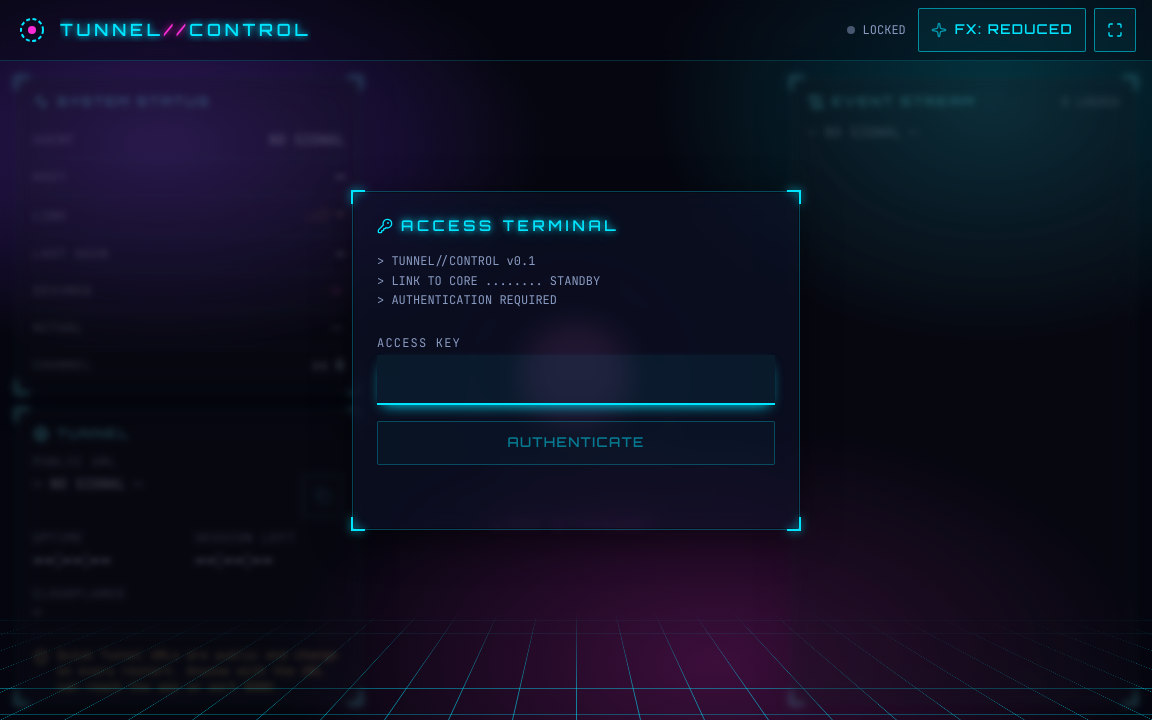
it: single page: lock, unlock, control › Escape and Cancel close the dialog without starting anything
The image size is (1152, 720).
Type "correct-horse" into the password field labelled "Access key" at x=576, y=379, box [377,354,775,404]
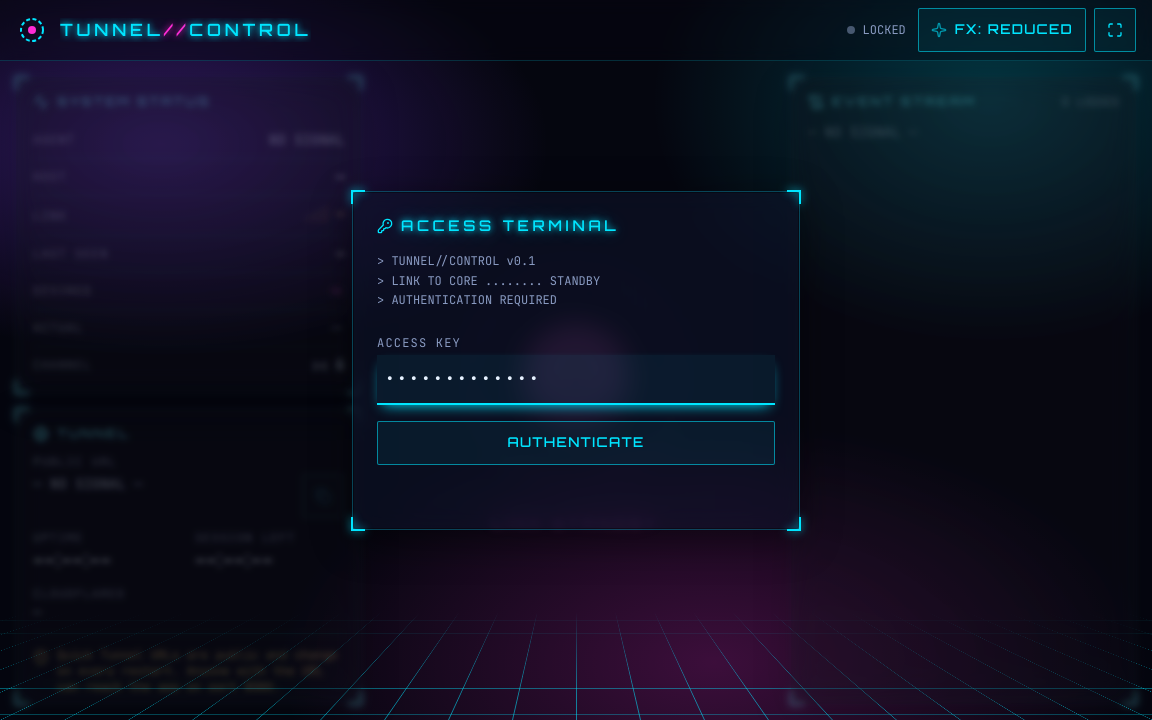
Click the button "Authenticate" at x=576, y=442, box [377,420,775,464]
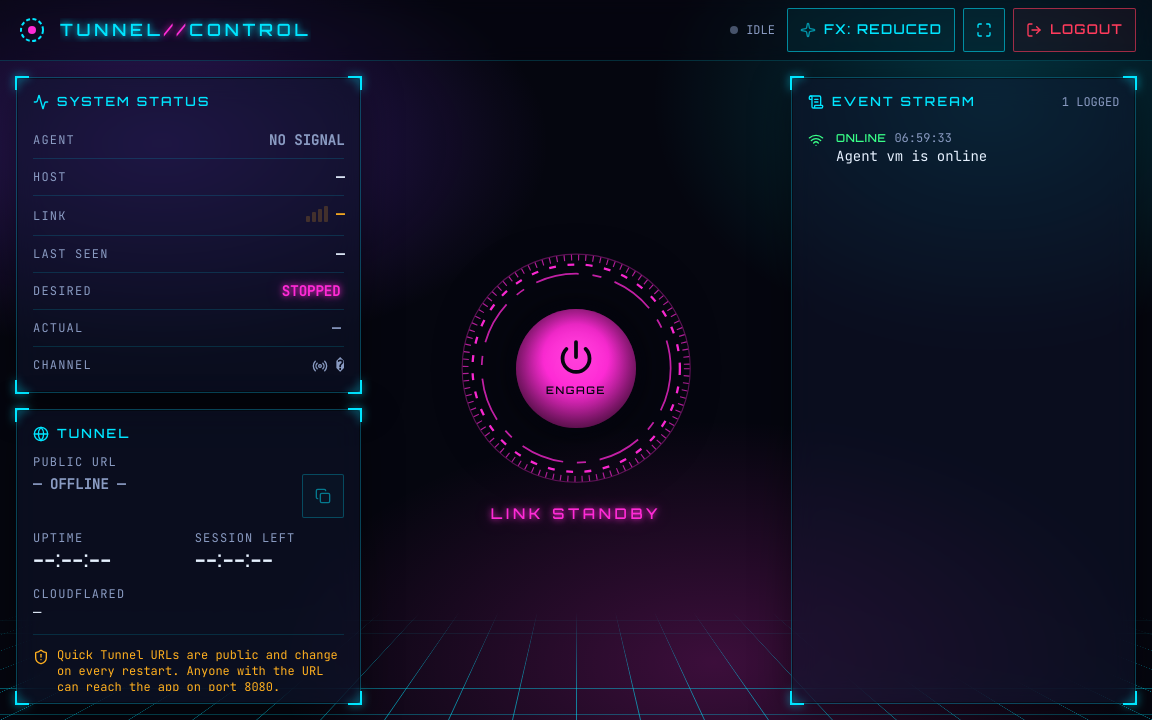
Click the button with aria-label "engage tunnel" at x=576, y=368, box [461,253,691,484]
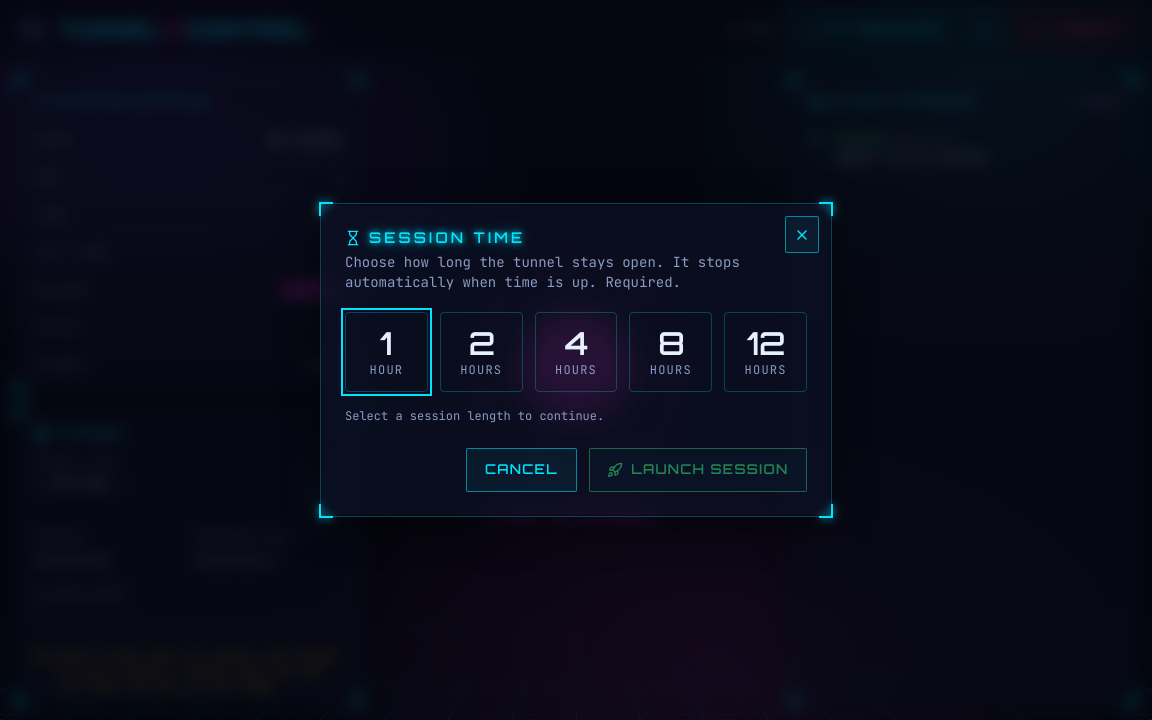
Result: the dialog "SESSION TIME" is shown at [320,203,832,517]
Press Escape
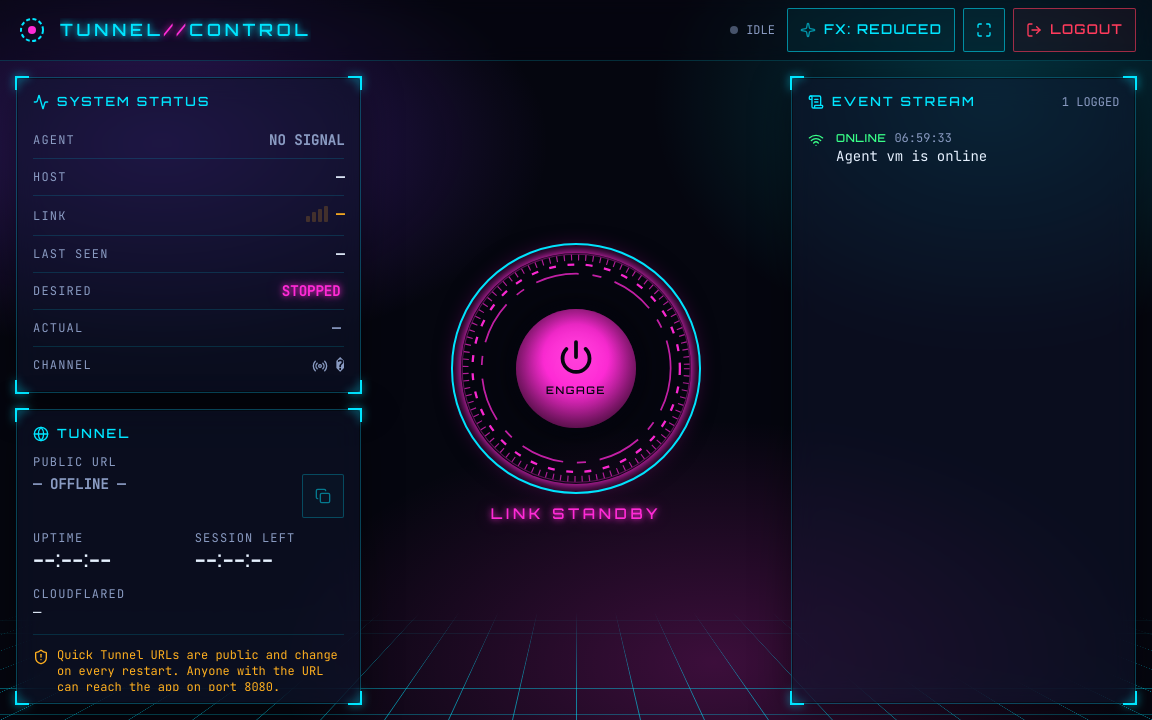
Result: the dialog is gone
Click the button with aria-label "engage tunnel" at x=576, y=368, box [461,253,691,484]
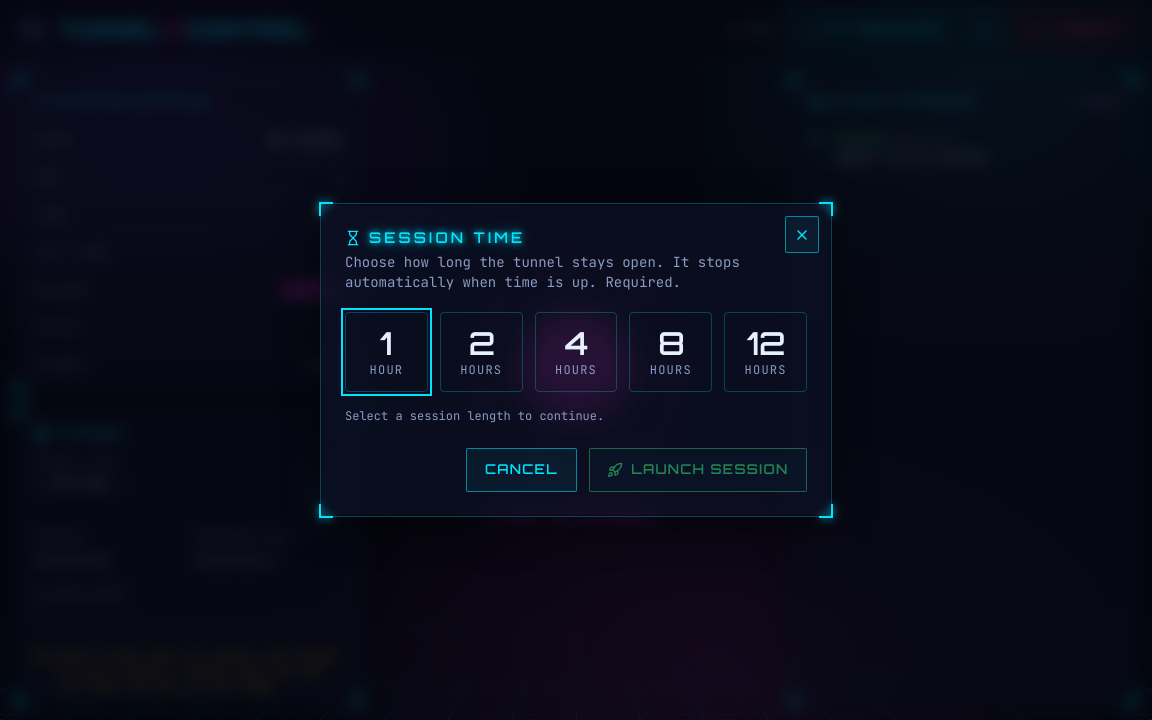
Click the button "Cancel" at x=522, y=470, box [466,448,577,492]
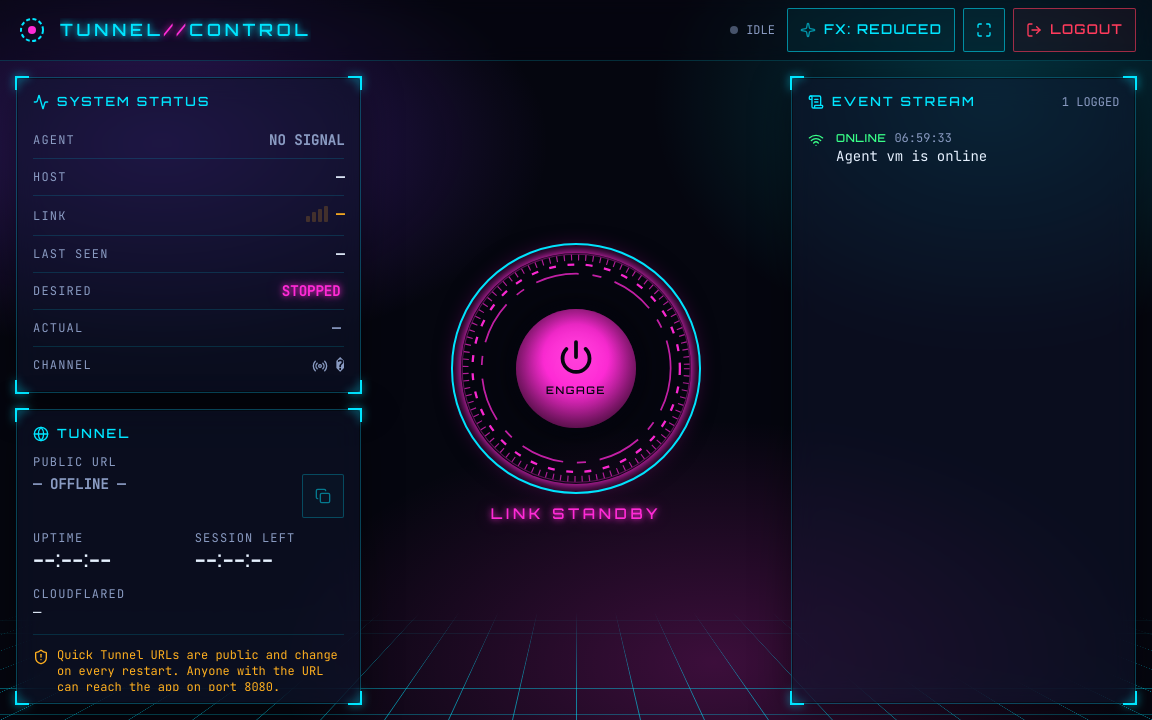
Result: the dialog is gone
